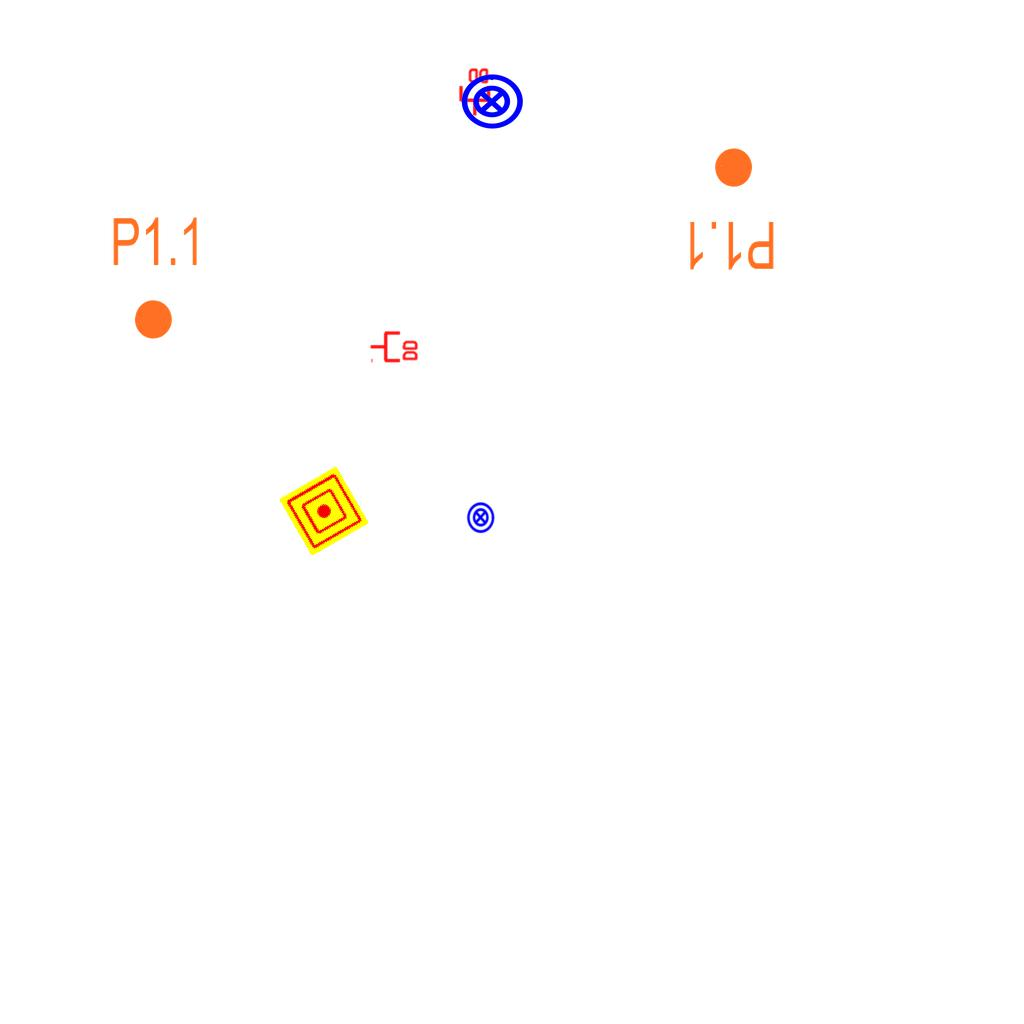Datenanschluss_zweifach: (369, 329, 420, 363), (457, 66, 491, 117)
Downlight_LED_Einbauleuchten_Flur: (684, 145, 777, 273), (110, 214, 203, 342)
NAM-Nichtautomatischer_Melder: (278, 465, 370, 557)
Taster_beleuchtet: (459, 69, 525, 135), (463, 500, 498, 535)
